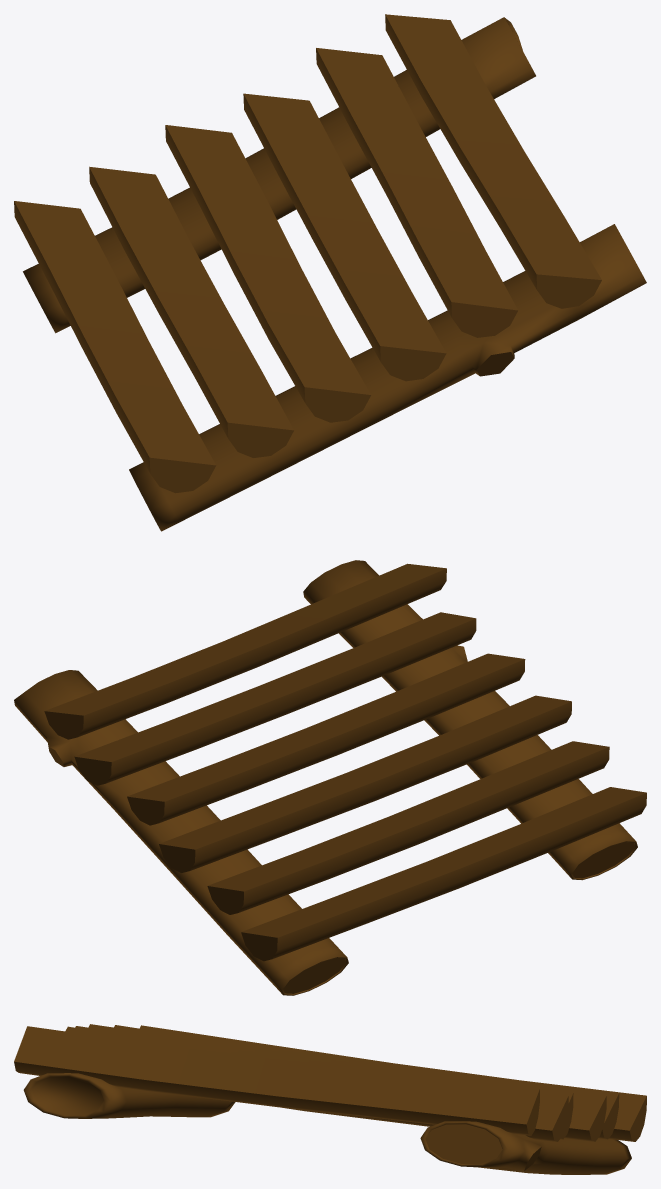
Rendered from stairs small.glb.
3 views of the same model, one above another, from view 1: azimuth 30°, elevation 25°; view 2: azimuth 150°, elevation 25°; view 3: azimuth 270°, elevation 25° (orthographic). The views are drawn at different scales.
Parts seen in each view (by area): view 1: LogStaris_02_GEO; view 2: LogStaris_02_GEO; view 3: LogStaris_02_GEO.
Part boxes in pixels (x1=…): LogStaris_02_GEO: x1=14, y1=14, x2=646, y2=531; LogStaris_02_GEO: x1=14, y1=560, x2=646, y2=995; LogStaris_02_GEO: x1=14, y1=1024, x2=646, y2=1174.
Bounding box in the file's own units: 32.65 × 13.59 × 36.51.
